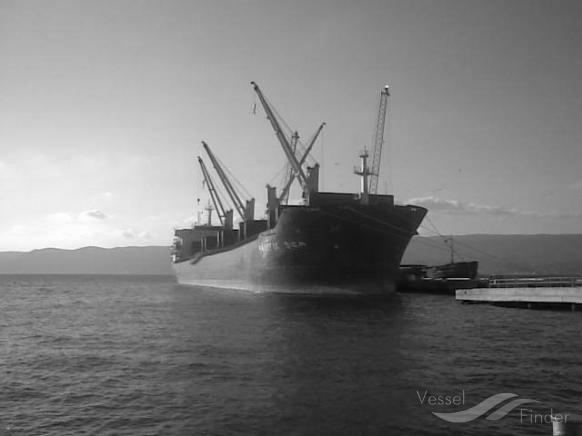OCR: (254, 242, 313, 256)
